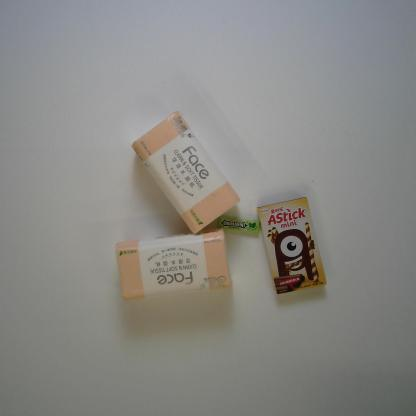Dessert: (255, 193, 326, 299)
Gum: (216, 214, 261, 236)
Tissue: (128, 109, 243, 236), (112, 225, 233, 304)
